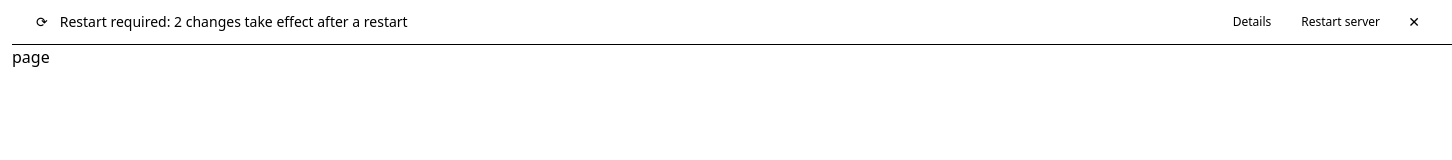
Test: Restart banner › counts the changes and lists them behind Details
Expected: the text "Restart required: 2 changes take effect after a restart" is shown, x1=60 y1=12 x2=408 y2=32
Expected: the text "CORS mode changed" is not shown
Click the button "Details" at (1252, 22), box x1=1223 y1=10 x2=1281 y2=34
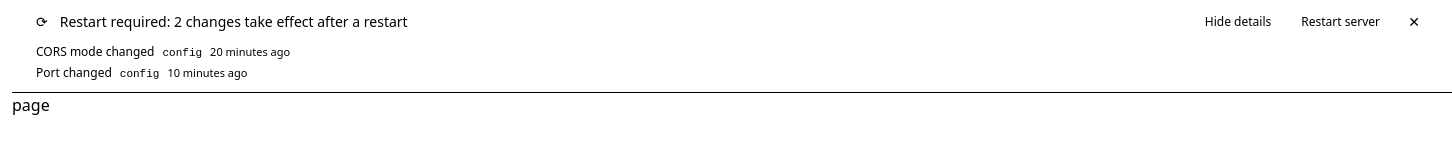
Expected: the button "Hide details" is expanded
Expected: the text "CORS mode changed" is shown, x1=36 y1=44 x2=154 y2=60
Expected: the text "Port changed" is shown, x1=36 y1=65 x2=112 y2=81
Click the button "Hide details" at (1238, 22), box x1=1195 y1=10 x2=1281 y2=34
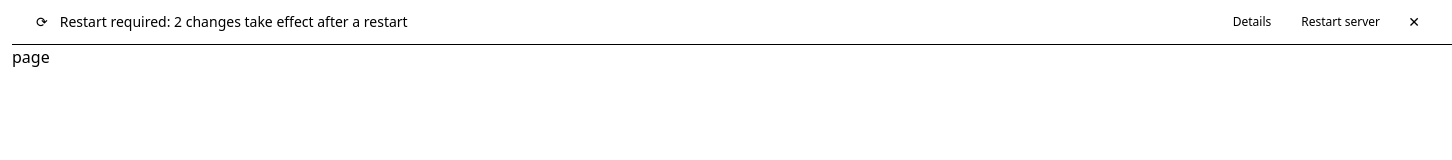
Expected: the list is gone
